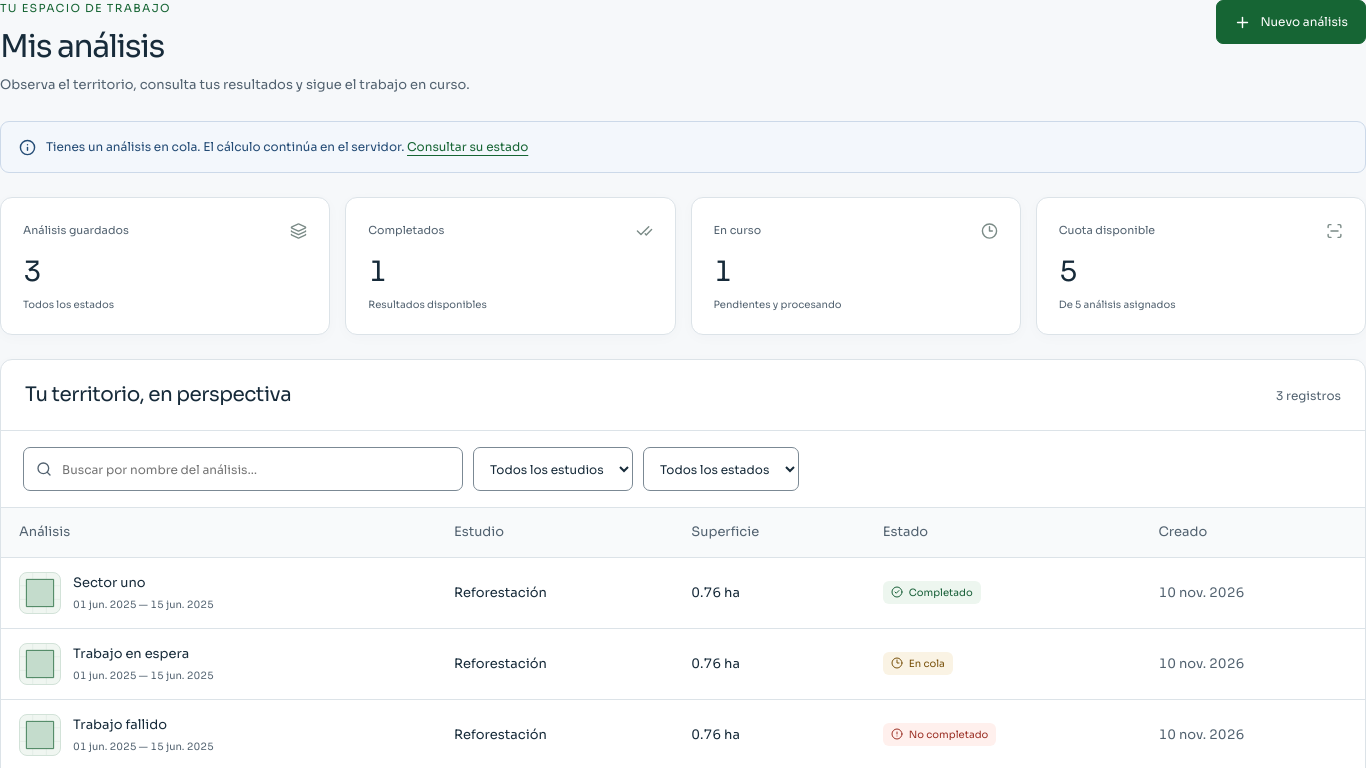
Test: analysis workflows › shows all states and filters by name
Expected: the link "Trabajo en espera" is shown, 73,644 -> 189,665
Expected: the link "Trabajo fallido" is shown, 73,715 -> 167,736
Type "Sector" into the field named "Buscar análisis por nombre". click: [243, 469]
box: 23,447 -> 463,491
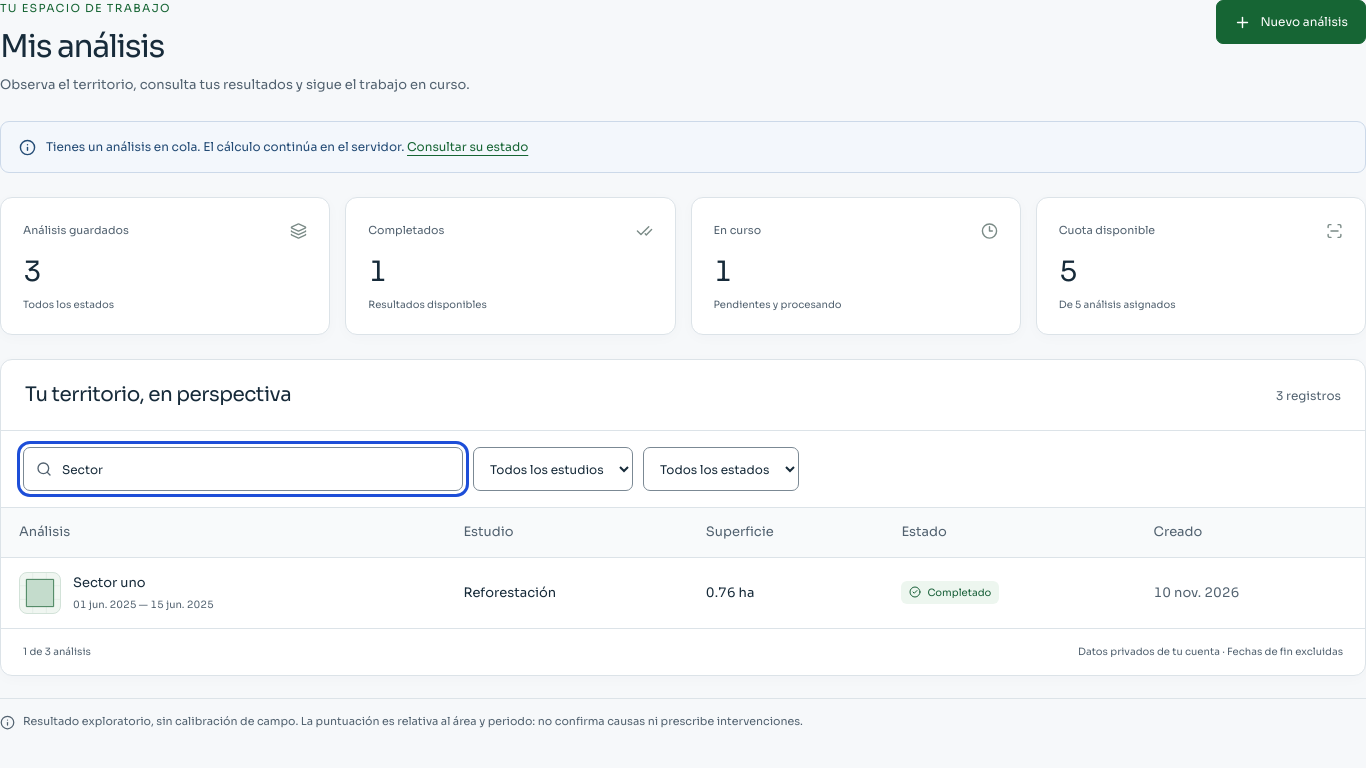
Expected: the link "Trabajo fallido" is gone
